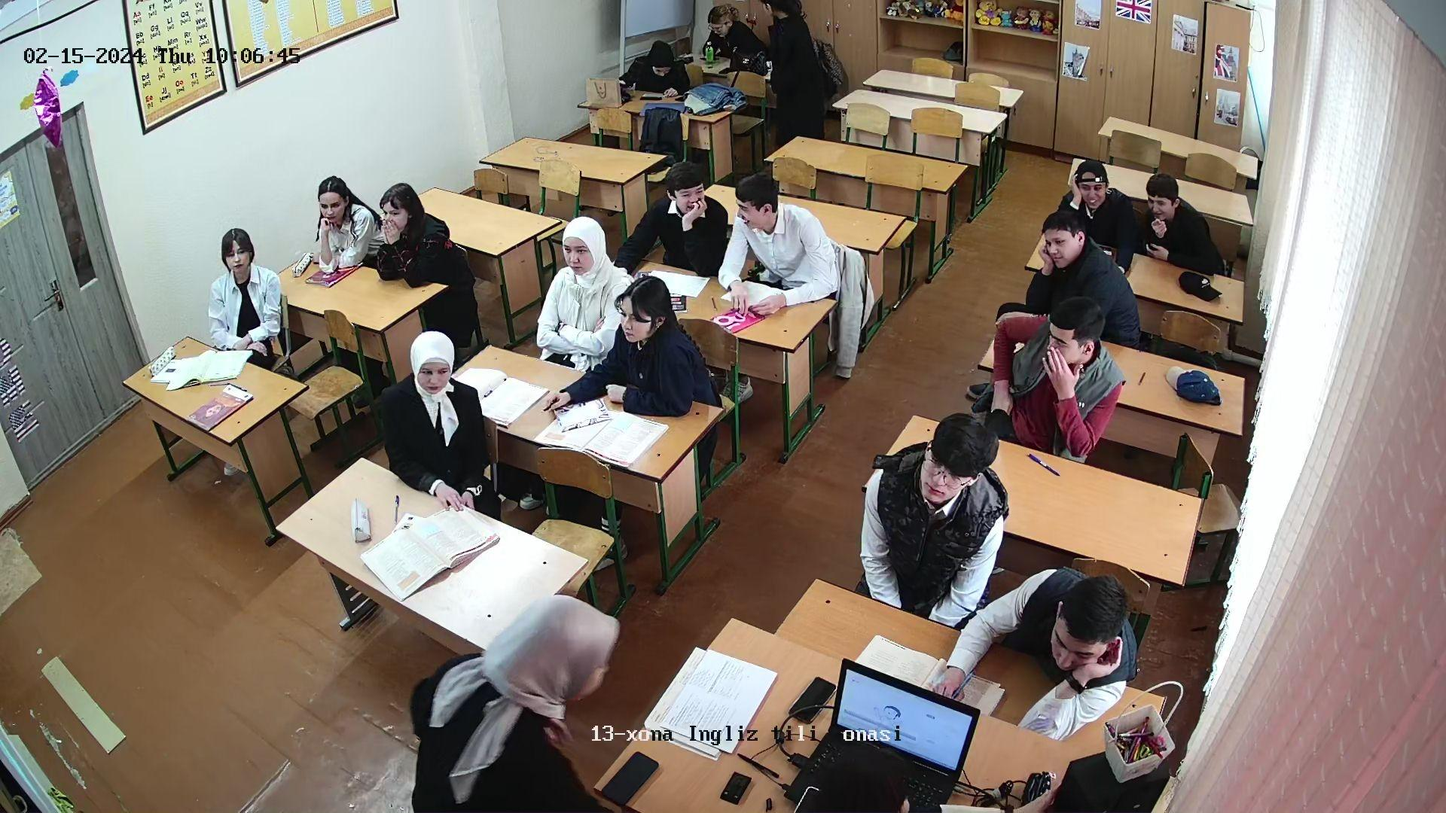Hand Under Table: (1017, 566, 1136, 739)
Look Around: (979, 298, 1119, 426), (399, 337, 484, 500), (202, 224, 288, 357), (723, 172, 833, 266), (1012, 203, 1098, 289), (645, 164, 723, 241), (1143, 164, 1194, 235)
Normal: (610, 285, 703, 410), (375, 178, 458, 285), (553, 217, 624, 319), (301, 170, 369, 265), (621, 35, 689, 106), (704, 2, 749, 70)
Stand Up: (467, 610, 621, 813), (763, 3, 827, 139)
